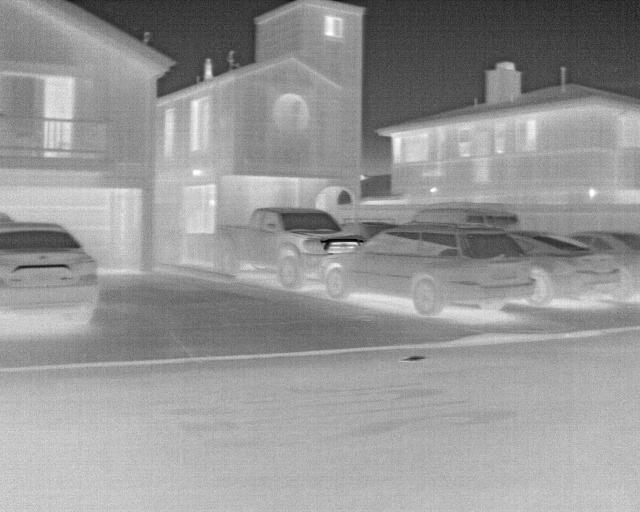car: (326, 229, 535, 316), (214, 204, 368, 290), (1, 220, 100, 332), (505, 233, 625, 304), (565, 234, 639, 282), (413, 205, 519, 233)
